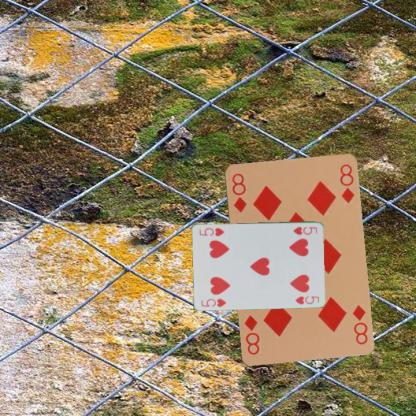5h: (198, 296, 228, 308), (291, 224, 318, 236)
8d: (229, 170, 248, 214), (350, 302, 368, 346)
